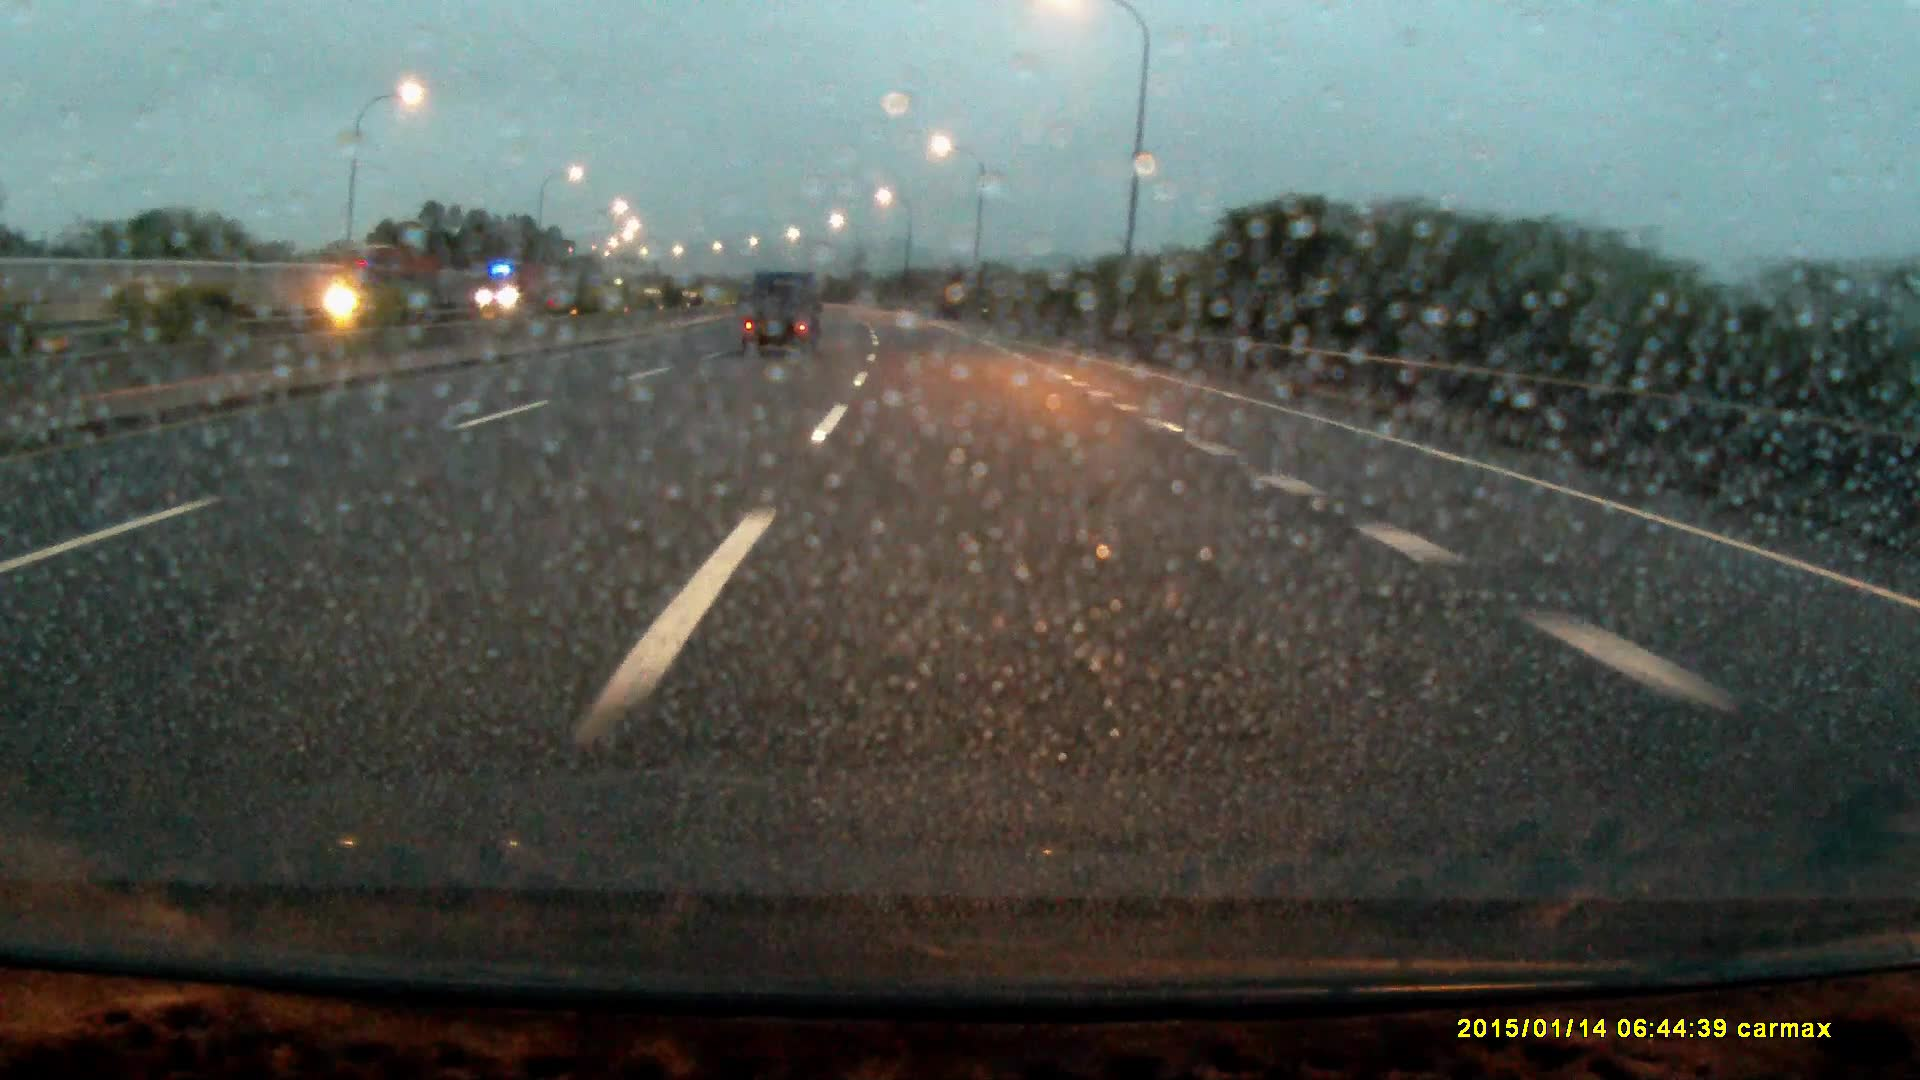vehicle: (324, 249, 448, 324), (740, 269, 819, 360), (476, 262, 551, 315)
